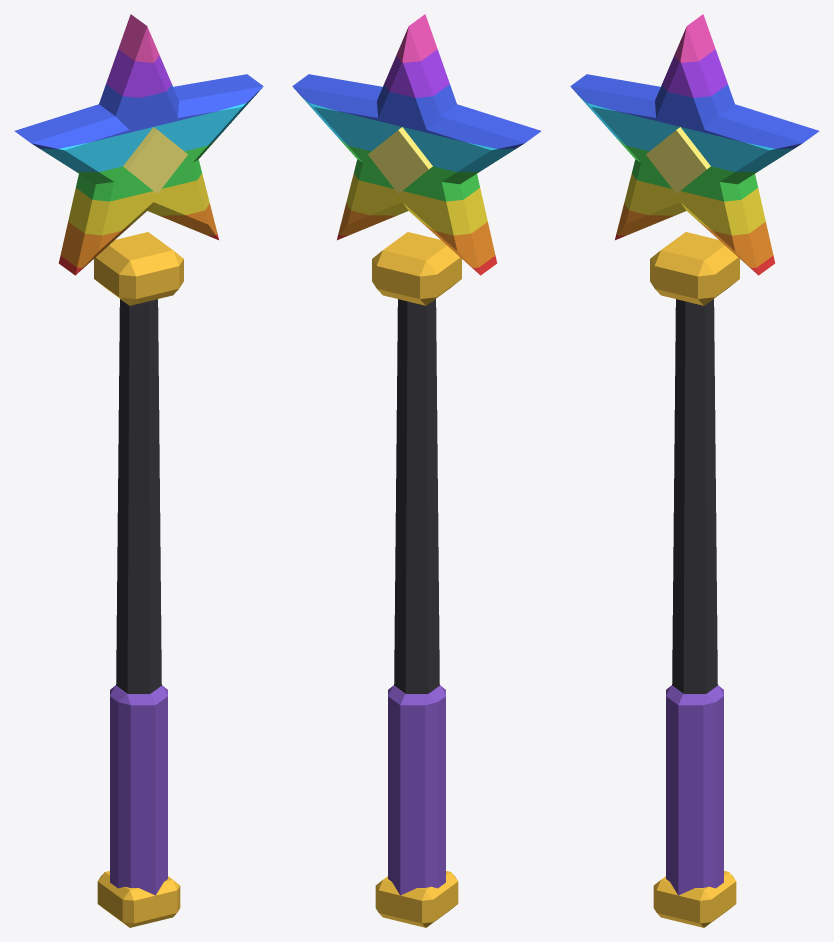
File: RainbowWand.fbx
The picture shows the model from 3 angles, left to right: view 1: azimuth 30°, elevation 25°; view 2: azimuth 150°, elevation 25°; view 3: azimuth 330°, elevation 25°; orthographic projection.
Visible parts, largest first — view 1: RainbowWand; view 2: RainbowWand; view 3: RainbowWand.
Part boxes in pixels (x1,y1,x2,y2): RainbowWand: (14,14,263,927); RainbowWand: (292,14,541,927); RainbowWand: (570,14,819,927).
Bounding box in the file's own units: 0.6467 × 2.37 × 0.18.
1 material, 1 textured.
